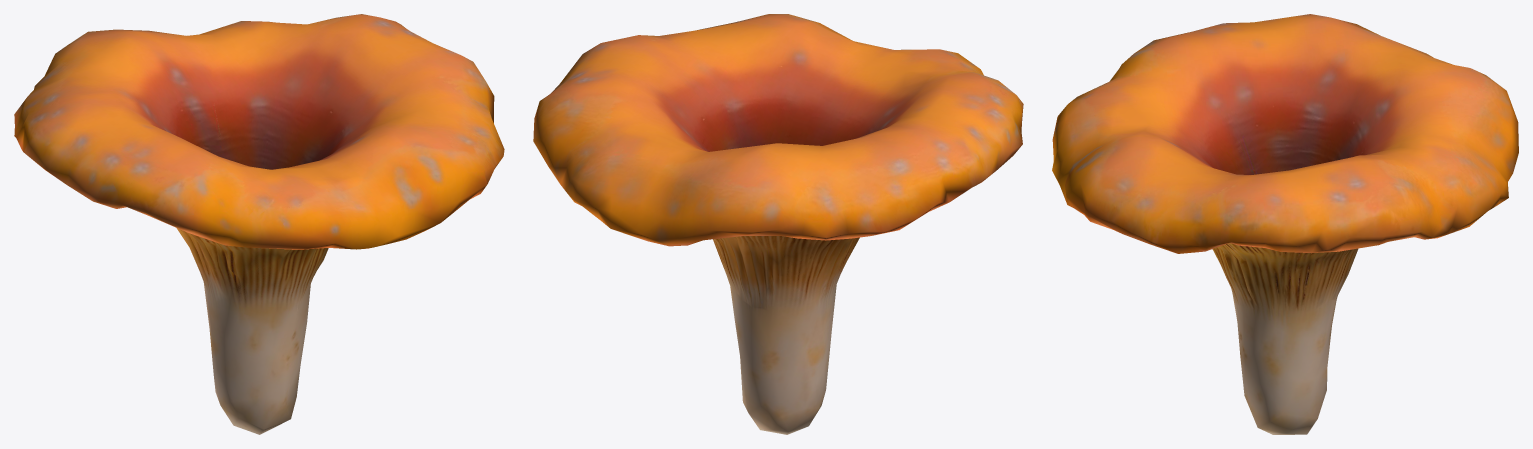
The picture shows the model from 3 angles, left to right: view 1: azimuth 30°, elevation 25°; view 2: azimuth 150°, elevation 25°; view 3: azimuth 270°, elevation 25°; orthographic projection. The views are drawn at different scales.
Visible parts, largest first — view 1: Mesh1.0; view 2: Mesh1.0; view 3: Mesh1.0.
Boxes of the visible parts, x1,y1,x2,y2 form: Mesh1.0: (14, 14, 504, 434); Mesh1.0: (533, 14, 1023, 434); Mesh1.0: (1052, 14, 1518, 434).
Size of the model in its own units: 1.92 by 1.49 by 1.88.
1 material, 1 textured.
